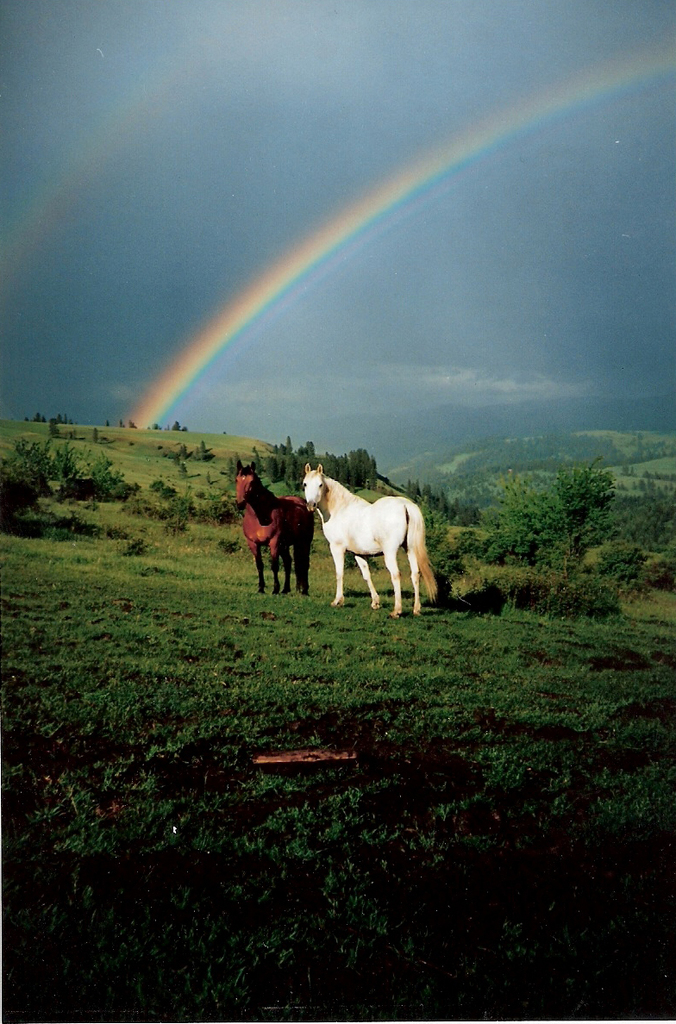horse: (303, 459, 438, 612)
